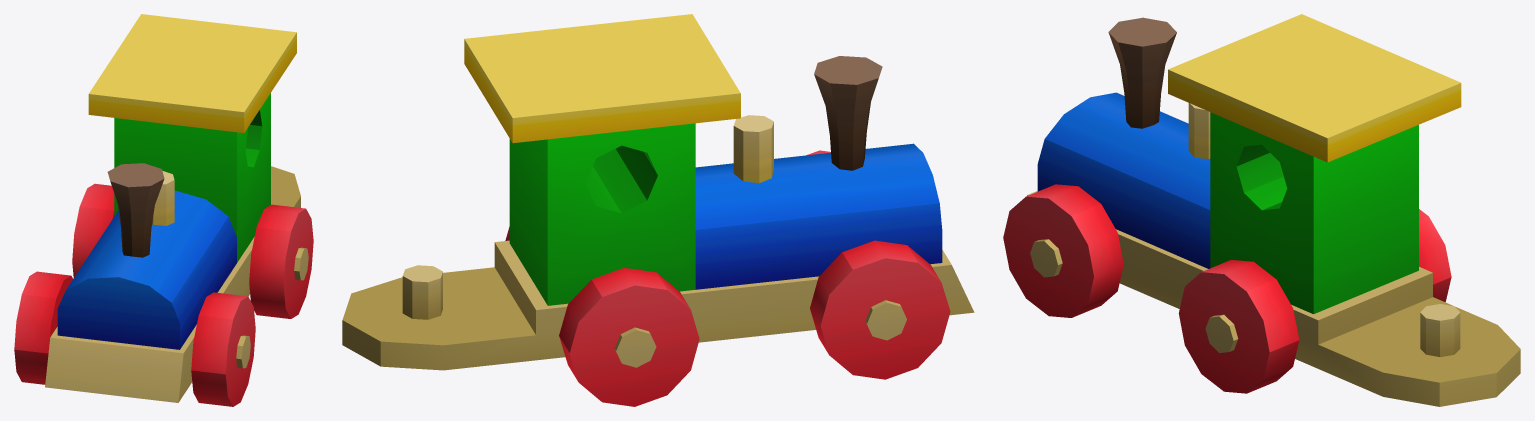
The model's file is Train Toy break.fbx.
The picture shows the model from 3 angles, left to right: view 1: azimuth 30°, elevation 25°; view 2: azimuth 150°, elevation 25°; view 3: azimuth 270°, elevation 25°; orthographic projection. The views are drawn at different scales.
Visible parts, largest first — view 1: Train Toy.012, Train Toy.010, Train Toy.011, Train Toy.013, Train Toy.001, Train Toy.006, Train Toy.003, Train Toy.007, Train Toy.005, Train Toy.008, Train Toy.002, Train Toy.004; view 2: Train Toy.011, Train Toy.012, Train Toy.010, Train Toy.013, Train Toy.005, Train Toy.003, Train Toy.007, Train Toy.008, Train Toy.009, Train Toy.002, Train Toy.004; view 3: Train Toy.011, Train Toy.012, Train Toy.013, Train Toy.010, Train Toy.001, Train Toy.006, Train Toy.007, Train Toy.009, Train Toy.005, Train Toy.008, Train Toy.002, Train Toy.004.
Part boxes in pixels (bbox=[...]): Train Toy.012: bbox=[88, 14, 296, 132]; Train Toy.010: bbox=[57, 190, 236, 349]; Train Toy.011: bbox=[114, 93, 270, 262]; Train Toy.013: bbox=[45, 166, 300, 402]; Train Toy.001: bbox=[191, 292, 255, 406]; Train Toy.006: bbox=[249, 204, 313, 318]; Train Toy.003: bbox=[14, 271, 72, 384]; Train Toy.007: bbox=[107, 163, 164, 257]; Train Toy.005: bbox=[72, 183, 114, 277]; Train Toy.008: bbox=[152, 171, 174, 225]; Train Toy.002: bbox=[236, 335, 250, 368]; Train Toy.004: bbox=[294, 247, 308, 280]; Train Toy.011: bbox=[509, 123, 695, 305]; Train Toy.012: bbox=[464, 14, 740, 143]; Train Toy.010: bbox=[695, 143, 942, 289]; Train Toy.013: bbox=[342, 240, 974, 370]; Train Toy.005: bbox=[559, 268, 699, 406]; Train Toy.003: bbox=[810, 240, 950, 379]; Train Toy.007: bbox=[814, 56, 882, 170]; Train Toy.008: bbox=[733, 115, 773, 183]; Train Toy.009: bbox=[402, 265, 442, 319]; Train Toy.002: bbox=[865, 300, 906, 340]; Train Toy.004: bbox=[614, 327, 656, 367]; Train Toy.011: bbox=[1210, 112, 1418, 314]; Train Toy.012: bbox=[1168, 14, 1461, 162]; Train Toy.013: bbox=[1027, 191, 1520, 406]; Train Toy.010: bbox=[1037, 92, 1210, 268]; Train Toy.001: bbox=[1003, 184, 1123, 317]; Train Toy.006: bbox=[1178, 260, 1299, 393]; Train Toy.007: bbox=[1108, 17, 1176, 128]; Train Toy.009: bbox=[1420, 304, 1460, 356]; Train Toy.005: bbox=[1419, 209, 1451, 302]; Train Toy.008: bbox=[1188, 103, 1210, 159]; Train Toy.002: bbox=[1030, 239, 1062, 277]; Train Toy.004: bbox=[1205, 314, 1238, 352].
Size of the model in its own units: 18.63 by 10.92 by 18.45.
